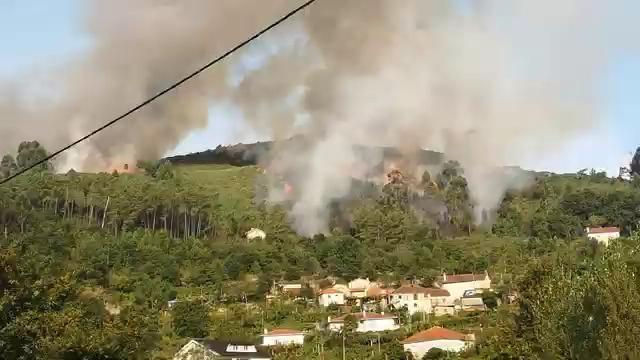smoke: (284, 70, 361, 191), (96, 25, 179, 113)
